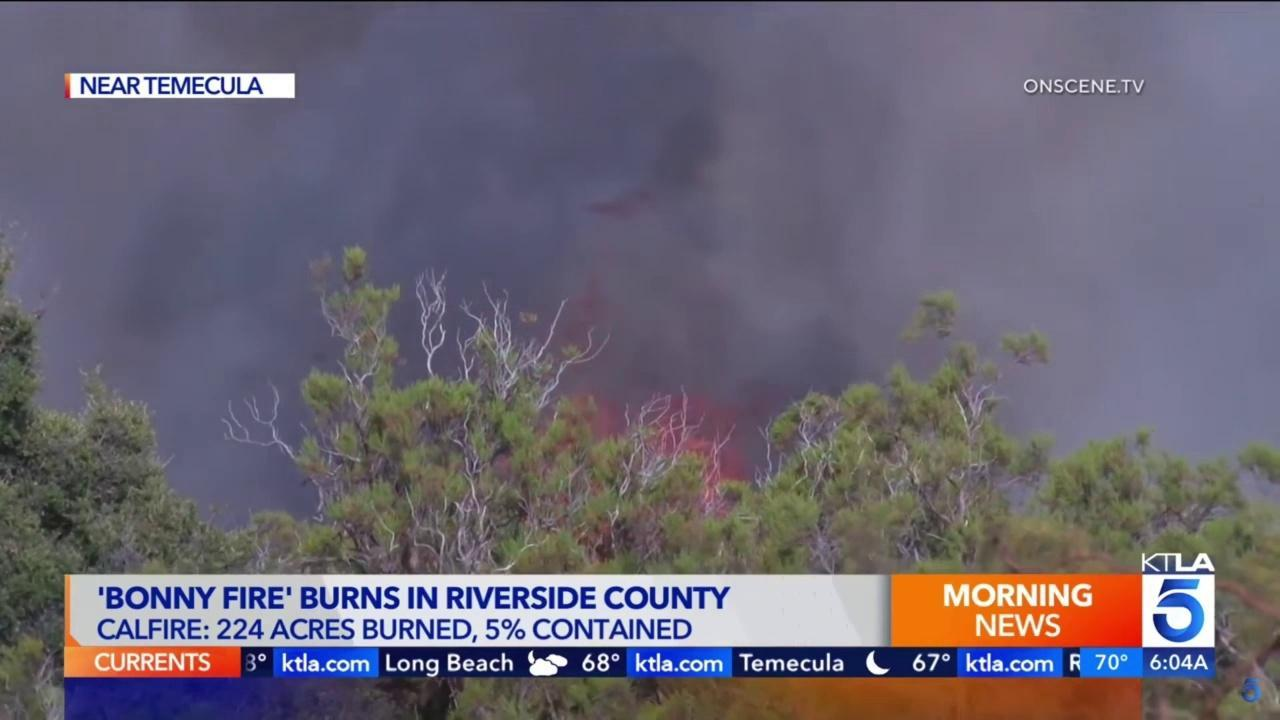fire: (486, 379, 764, 532)
smoke: (1, 2, 1157, 529)
